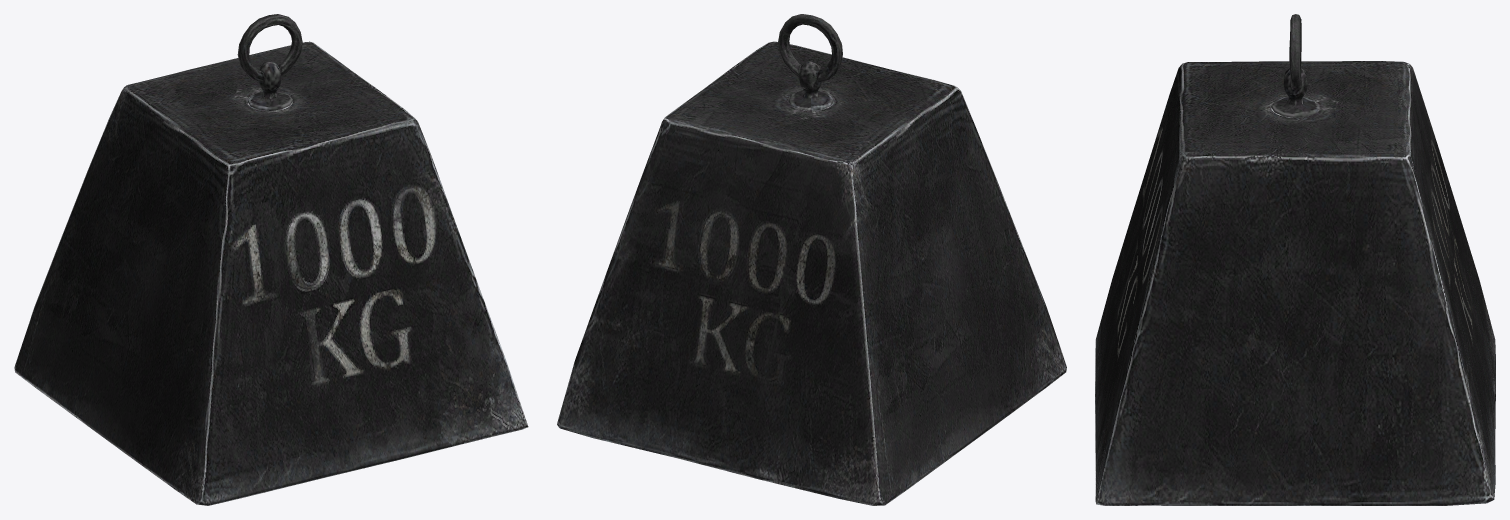
The model's file is prop_weight_ton.glb.
3 views of the same model, side by side, from view 1: azimuth 30°, elevation 25°; view 2: azimuth 150°, elevation 25°; view 3: azimuth 270°, elevation 25° (orthographic). The views are drawn at different scales.
Visible parts, largest first — view 1: prop_weight_ton; view 2: prop_weight_ton; view 3: prop_weight_ton.
Boxes of the visible parts, x1,y1,x2,y2 form: prop_weight_ton: [14, 14, 528, 505]; prop_weight_ton: [557, 14, 1066, 505]; prop_weight_ton: [1095, 14, 1495, 505].
Bounding box in the file's own units: 2.58 × 2.87 × 2.58.
1 material, 1 textured.
